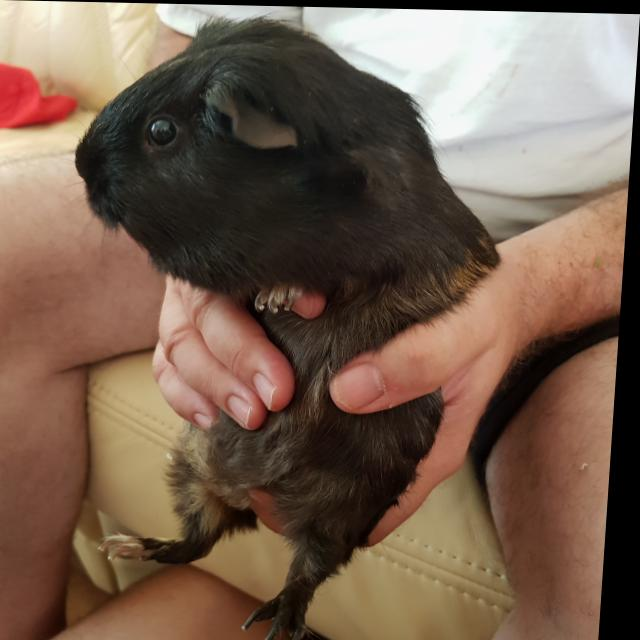guinea pig: (49, 11, 522, 640)
